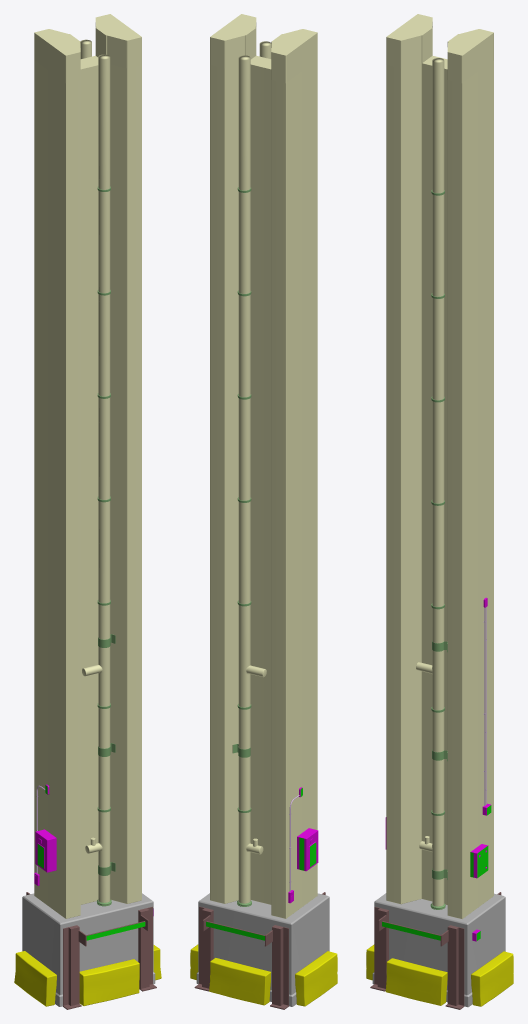
File: poles_GRP.fbx
3 views of the same model, side by side, from view 1: azimuth 30°, elevation 25°; view 2: azimuth 150°, elevation 25°; view 3: azimuth 330°, elevation 25° (orthographic).
Parts seen in each view (by area): view 1: pole_cement, water_pipes_02, pole_wall_barrier_05, cushions_01, cushions_04, segments_water_pipes_03, powerBox_07, decal_poles; view 2: pole_cement, water_pipes_01, pole_wall_barrier_06, cushions_03, cushions_04, decal_poles, powerBox_07, segments_water_pipes_01; view 3: pole_cement, water_pipes_02, pole_wall_barrier_05, cushions_01, cushions_02, segments_water_pipes_03, decal_poles, wiring_case_27, wiring_case_26.
Part boxes in pixels (x1,y1,x2,y2): pole_cement: (22,14,155,1006); water_pipes_02: (82,54,110,902); pole_wall_barrier_05: (63,906,156,1009); cushions_01: (79,959,139,1005); cushions_04: (14,951,56,1006); segments_water_pipes_03: (97,186,115,906); powerBox_07: (35,829,56,872); decal_poles: (37,785,145,940); pole_cement: (196,14,329,1006); water_pipes_01: (238,55,266,903); pole_wall_barrier_06: (194,906,288,1009); cushions_03: (209,958,271,1005); cushions_04: (295,951,337,1006); decal_poles: (206,788,316,940); powerBox_07: (297,828,318,871); segments_water_pipes_01: (232,187,251,906); pole_cement: (372,14,505,1007); water_pipes_02: (416,58,444,906); pole_wall_barrier_05: (370,907,464,1009); cushions_01: (385,958,447,1005); cushions_02: (471,951,513,1006); segments_water_pipes_03: (430,190,447,909); decal_poles: (382,805,491,940); wiring_case_27: (484,607,485,805); wiring_case_26: (485,607,486,804).
Size of what is drawn, in the model's own units: 132 by 1031 by 117.
